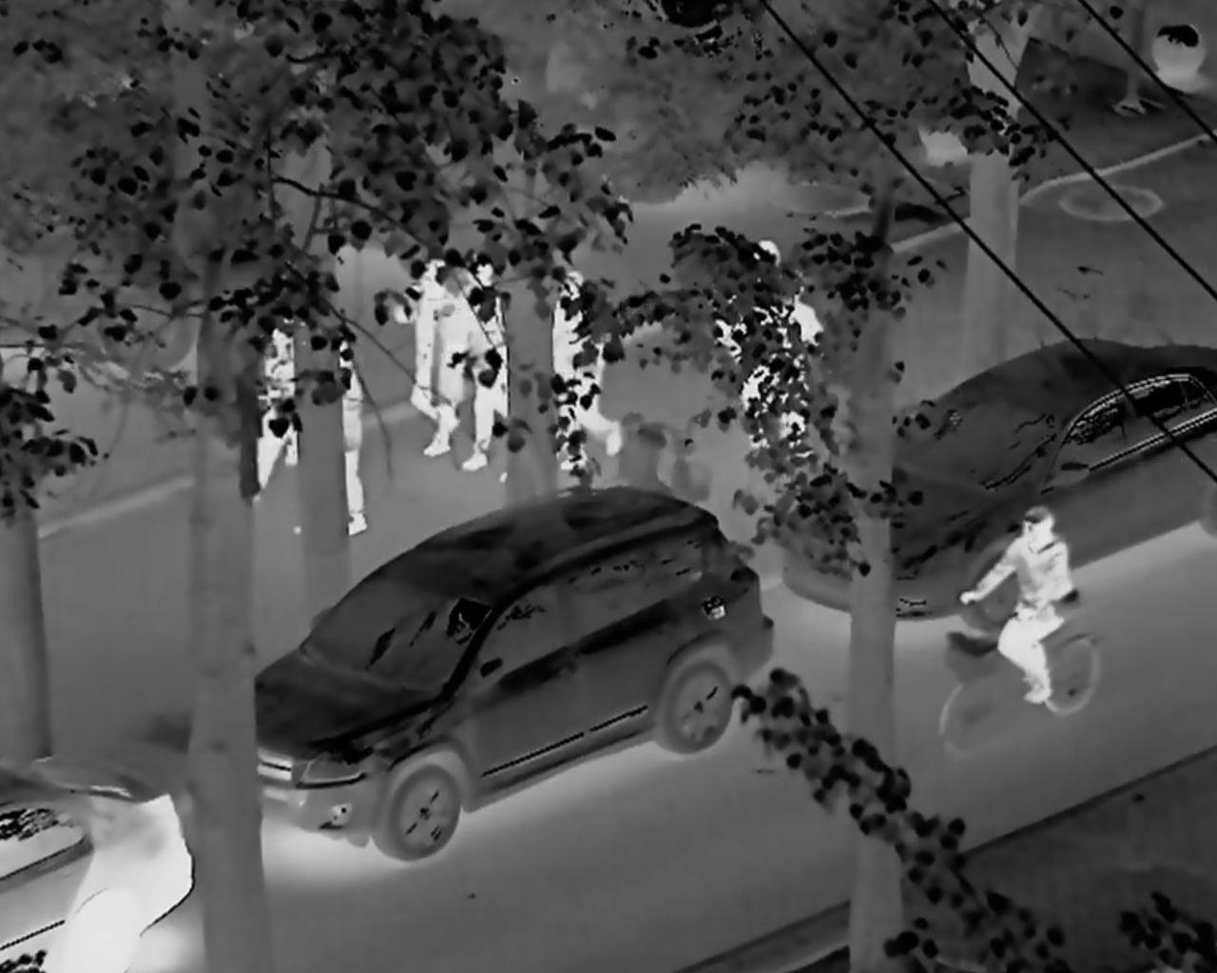person: (951, 501, 1123, 754), (718, 236, 831, 464), (237, 277, 316, 520), (546, 268, 637, 472), (396, 239, 474, 466), (457, 258, 531, 467), (312, 329, 383, 539)
